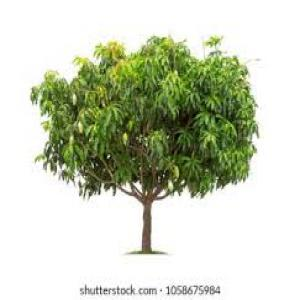Tree: (26, 30, 258, 254)
